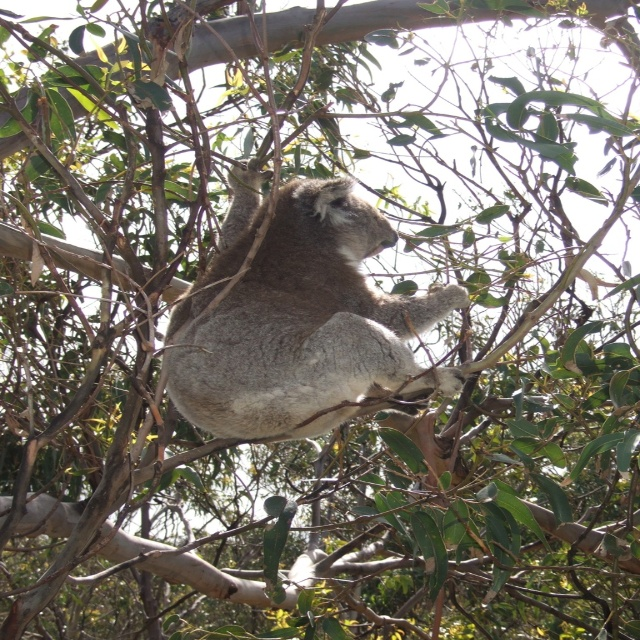Koala: (152, 157, 478, 443)
